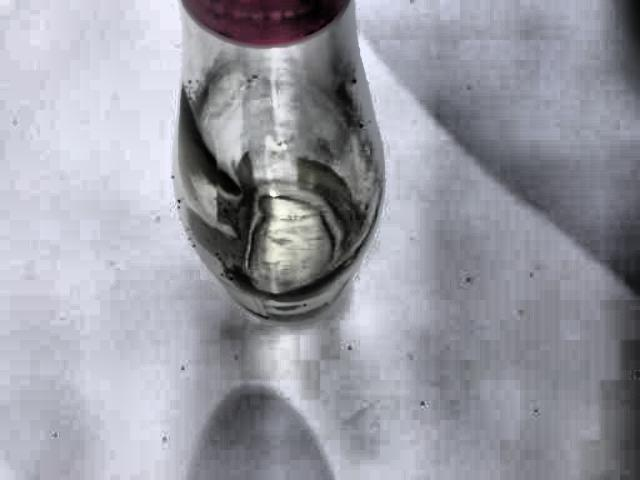Bottles: (120, 5, 402, 332)
